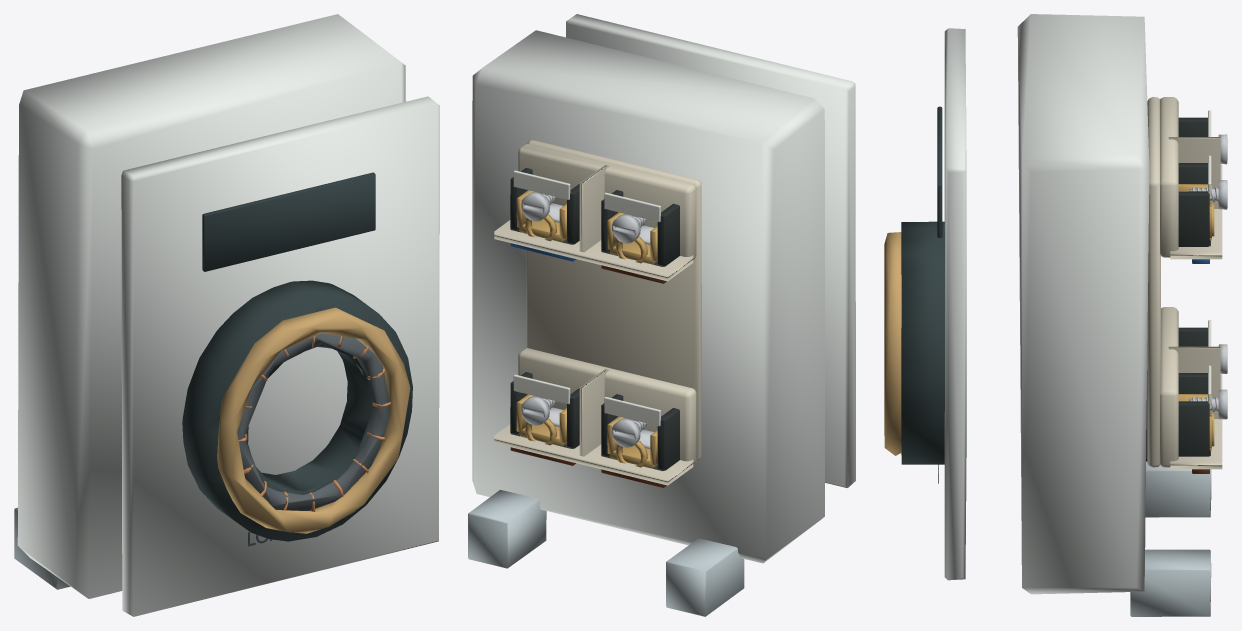
File: sensor_mode_load.low.glb
3 renders of one model, left to right at view 1: azimuth 30°, elevation 25°; view 2: azimuth 150°, elevation 25°; view 3: azimuth 270°, elevation 25°, orthographic. The views are drawn at different scales.
Visible parts, largest first — view 1: Load controller DIN fascia, Rounded sensor mounting base, Split-core current sensor, Current transformer winding, part:cover · Machinery thermoplastic, Toroidal ferrite core, part:mounting · Machined steel, detail:sensor-transducer · Detail oxygen-free copper; view 2: Rounded sensor mounting base, part:terminals · Original 5a609f27, Load controller DIN fascia, part:mounting · Machined steel, detail:terminal-clamp:IN · Detail moulded engineering polyme, detail:terminal-clamp:L · Detail moulded engineering polymer, detail:terminal-clamp:OUT · Detail machined brass, detail:terminal-clamp:IN · Detail machined brass, detail:terminal-clamp:L · Detail machined brass, detail:terminal-clamp:N · Detail machined brass, detail:terminal-clamp:OUT · Detail moulded engineering polym, detail:terminal-clamp:N · Detail moulded engineering polymer (+8 smaller); view 3: Rounded sensor mounting base, part:terminals · Original 5a609f27, Load controller DIN fascia, Split-core current sensor, part:mounting · Machined steel, Current transformer winding, detail:terminal-clamp:OUT · Detail moulded engineering polym, detail:terminal-clamp:N · Detail moulded engineering polymer, part:cover · Machinery thermoplastic, detail:terminal-clamp:IN · Detail moulded engineering polyme, detail:terminal-clamp:L · Detail moulded engineering polymer, detail:terminal-clamp:OUT · Detail zinc plated fixing (+1 smaller).
Boxes of the visible parts, bbox=[...] form: Load controller DIN fascia: bbox=[121, 96, 439, 616]; Rounded sensor mounting base: bbox=[17, 14, 405, 598]; Split-core current sensor: bbox=[182, 280, 412, 541]; Current transformer winding: bbox=[217, 307, 410, 533]; part:cover · Machinery thermoplastic: bbox=[202, 172, 375, 546]; Toroidal ferrite core: bbox=[237, 333, 389, 510]; part:mounting · Machined steel: bbox=[14, 507, 70, 589]; detail:sensor-transducer · Detail oxygen-free copper: bbox=[238, 336, 390, 511]; Rounded sensor mounting base: bbox=[472, 30, 824, 563]; part:terminals · Original 5a609f27: bbox=[494, 139, 701, 485]; Load controller DIN fascia: bbox=[566, 14, 855, 487]; part:mounting · Machined steel: bbox=[468, 490, 744, 616]; detail:terminal-clamp:IN · Detail moulded engineering polyme: bbox=[601, 394, 679, 471]; detail:terminal-clamp:L · Detail moulded engineering polymer: bbox=[601, 190, 679, 266]; detail:terminal-clamp:OUT · Detail machined brass: bbox=[516, 394, 566, 446]; detail:terminal-clamp:IN · Detail machined brass: bbox=[607, 416, 657, 468]; detail:terminal-clamp:L · Detail machined brass: bbox=[607, 212, 657, 264]; detail:terminal-clamp:N · Detail machined brass: bbox=[516, 190, 566, 242]; detail:terminal-clamp:OUT · Detail moulded engineering polym: bbox=[510, 372, 579, 448]; detail:terminal-clamp:N · Detail moulded engineering polymer: bbox=[510, 168, 579, 244]; Rounded sensor mounting base: bbox=[1017, 14, 1149, 594]; part:terminals · Original 5a609f27: bbox=[1147, 97, 1222, 469]; Load controller DIN fascia: bbox=[944, 28, 966, 580]; Split-core current sensor: bbox=[901, 221, 944, 464]; part:mounting · Machined steel: bbox=[1130, 461, 1211, 616]; Current transformer winding: bbox=[884, 232, 901, 455]; detail:terminal-clamp:OUT · Detail moulded engineering polym: bbox=[1146, 373, 1210, 461]; detail:terminal-clamp:N · Detail moulded engineering polymer: bbox=[1178, 163, 1210, 246]; part:cover · Machinery thermoplastic: bbox=[937, 106, 942, 483]; detail:terminal-clamp:IN · Detail moulded engineering polyme: bbox=[1147, 327, 1207, 372]; detail:terminal-clamp:L · Detail moulded engineering polymer: bbox=[1178, 117, 1207, 136]; detail:terminal-clamp:OUT · Detail zinc plated fixing: bbox=[1189, 389, 1227, 419].
Bounding box in the file's own units: 0.6184 × 0.9029 × 0.5939.
